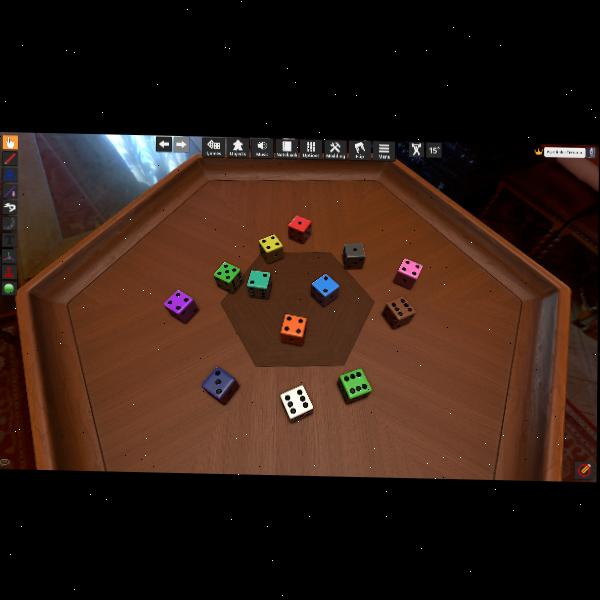d6: (201, 366, 237, 404), (280, 383, 314, 422), (337, 368, 370, 404), (164, 289, 198, 323), (384, 296, 414, 330), (311, 274, 339, 307), (393, 257, 421, 289), (214, 261, 242, 293), (280, 314, 307, 345), (246, 270, 272, 300), (257, 233, 283, 263), (287, 215, 310, 244), (342, 242, 364, 270)
